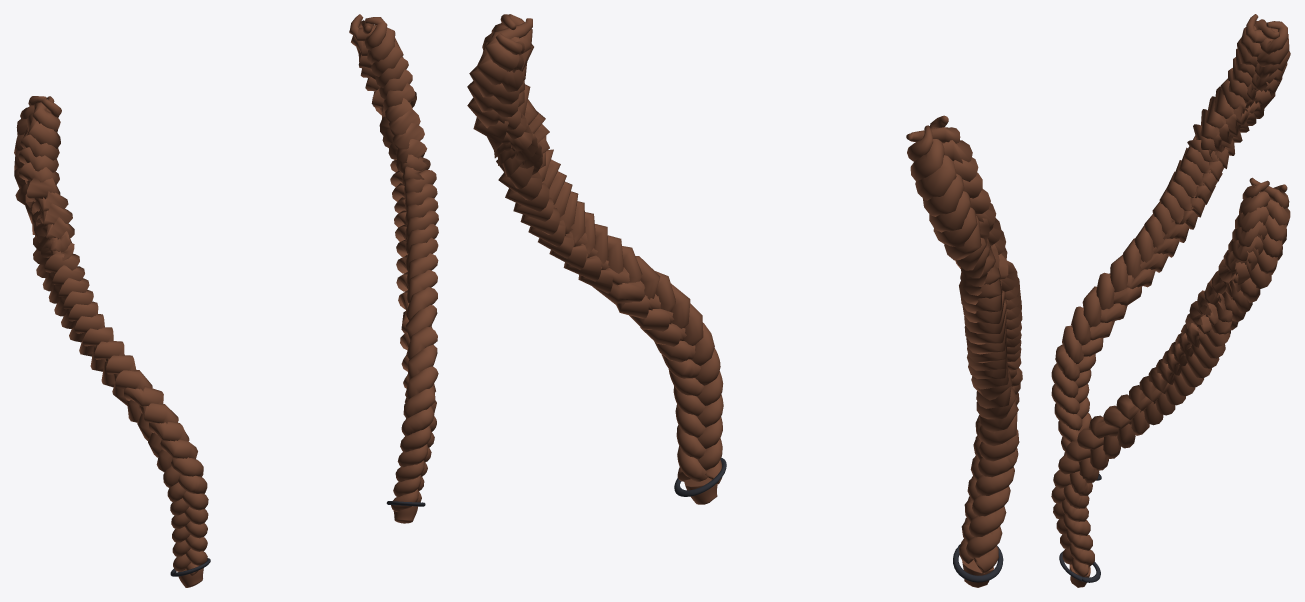
The model's file is twins-none-triangle-default.glb.
3 views of the same model, side by side, from view 1: azimuth 30°, elevation 25°; view 2: azimuth 150°, elevation 25°; view 3: azimuth 270°, elevation 25° (orthographic). The views are drawn at different scales.
Visible parts, largest first — view 1: 226 hairLengths / Hair / chestnut226; view 2: 226 hairLengths / Hair / chestnut226, 226 hairLengths / Hair / ties226; view 3: 226 hairLengths / Hair / chestnut226, 226 hairLengths / Hair / ties226.
Part boxes in pixels (bbox=[...]): 226 hairLengths / Hair / chestnut226: bbox=[14, 14, 438, 587]; 226 hairLengths / Hair / chestnut226: bbox=[467, 14, 1022, 587]; 226 hairLengths / Hair / ties226: bbox=[674, 457, 1003, 582]; 226 hairLengths / Hair / chestnut226: bbox=[1051, 14, 1290, 587]; 226 hairLengths / Hair / ties226: bbox=[1059, 474, 1101, 582].
Size of the model in its own units: 0.8713 by 0.9293 by 0.4504.
